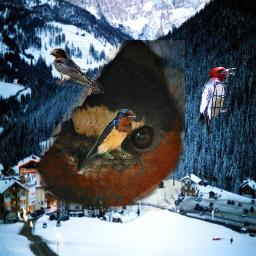Swallow: (35, 40, 185, 211), (50, 48, 104, 95), (86, 109, 136, 159)
Woodpecker: (199, 66, 238, 141)
